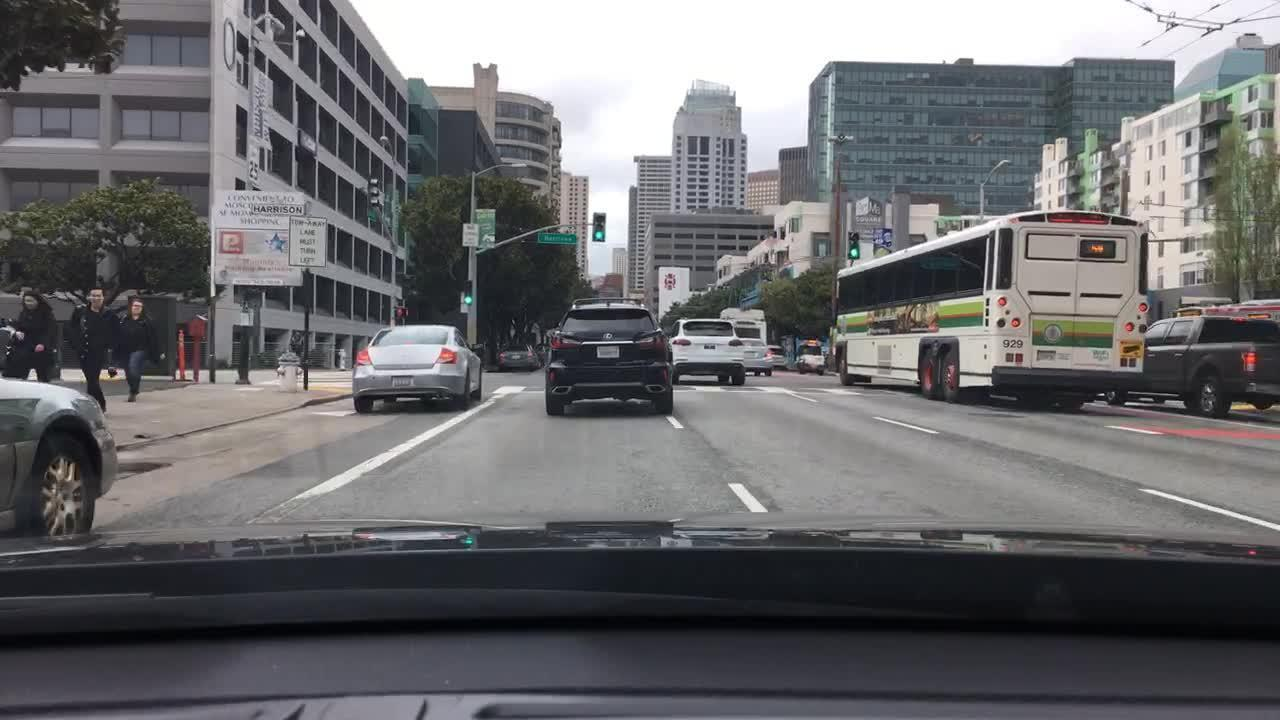lexus: (600, 329, 619, 345)
